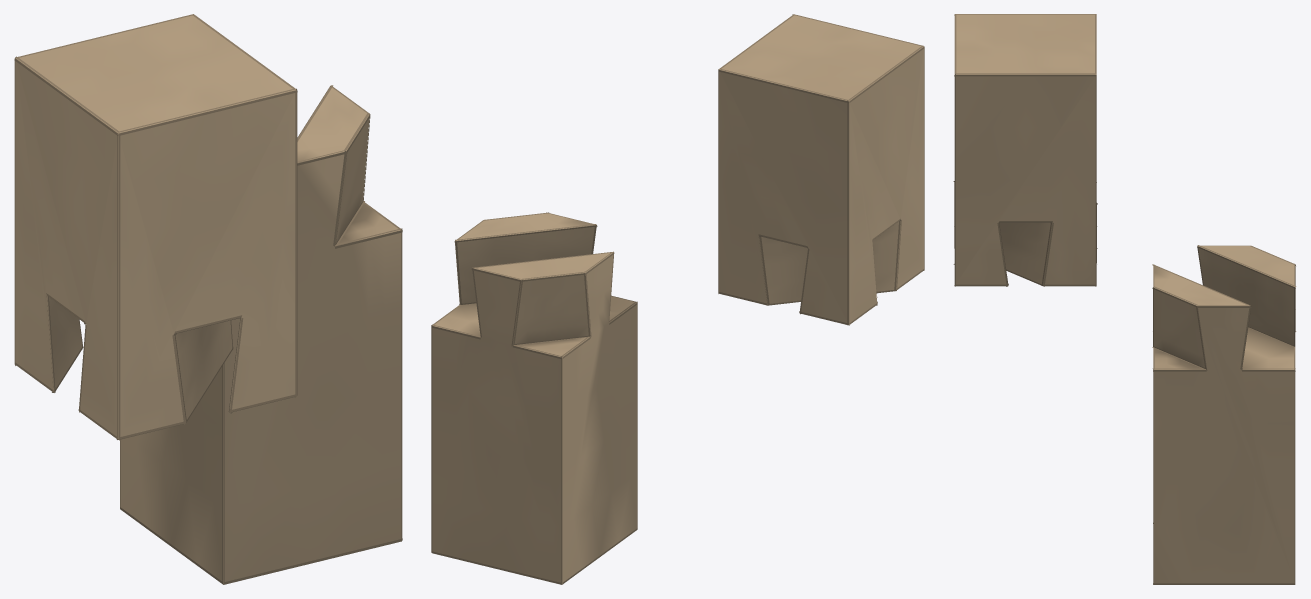
File: shihou-ari-tsugi.glb
3 views of the same model, side by side, from view 1: azimuth 30°, elevation 25°; view 2: azimuth 150°, elevation 25°; view 3: azimuth 270°, elevation 25° (orthographic). The views are drawn at different scales.
Parts seen in each view (by area): view 1: part-b, part-a; view 2: part-a, part-b; view 3: part-a, part-b.
Part boxes in pixels (x1,y1,x2,y2): part-b: (14, 14, 297, 440); part-a: (120, 85, 402, 584); part-a: (431, 212, 637, 584); part-b: (718, 14, 924, 325); part-a: (1152, 245, 1296, 584); part-b: (953, 14, 1097, 286).
Size of the model in its own units: 0.2921 by 0.4014 by 0.2921.
